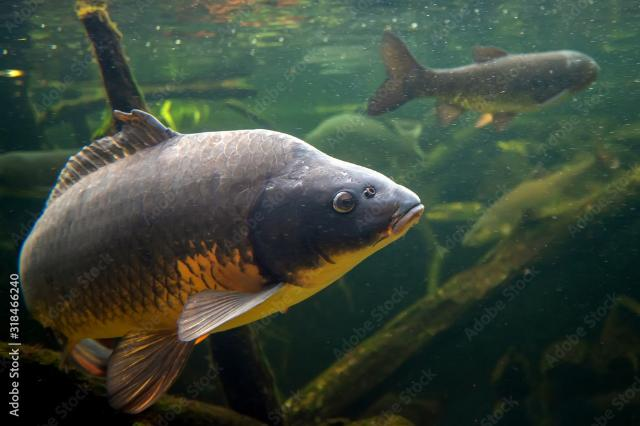Mulut: (377, 178, 437, 256)
Sirip Anal: (430, 98, 470, 132)
Sirip Dada: (172, 274, 296, 346), (525, 82, 569, 112)
Sirip Ekor: (355, 25, 431, 125)
Sirip Perut: (100, 322, 202, 422), (468, 106, 518, 140)
Sirip Punggung: (23, 105, 186, 217), (465, 36, 515, 72)
